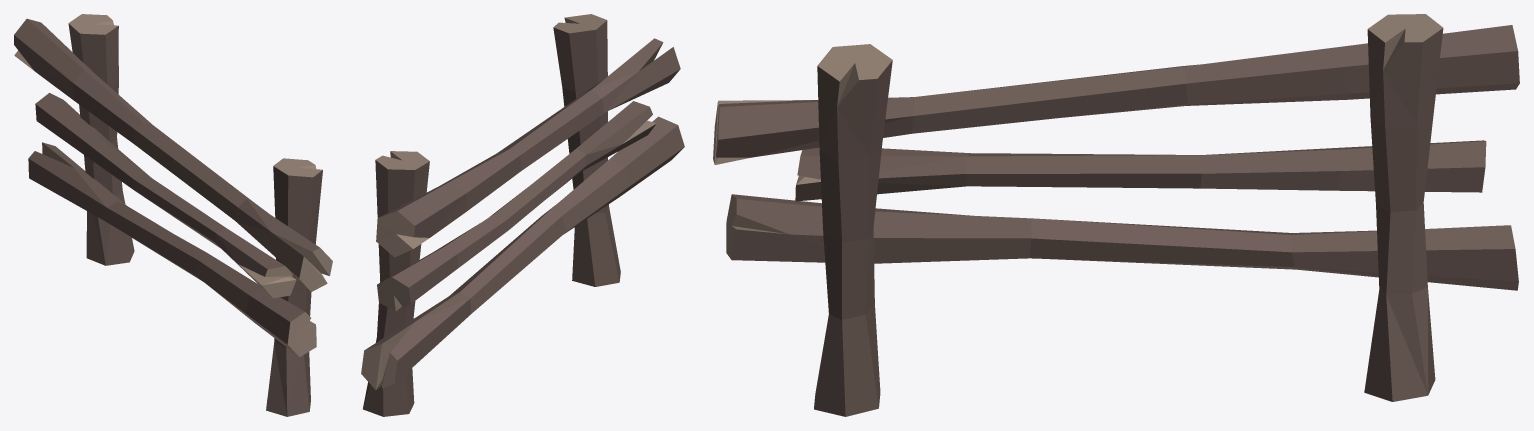
The model's file is fence_gate.glb.
3 views of the same model, side by side, from view 1: azimuth 30°, elevation 25°; view 2: azimuth 150°, elevation 25°; view 3: azimuth 270°, elevation 25° (orthographic). The views are drawn at different scales.
Visible parts, largest first — view 1: fence_gate; view 2: fence_gate; view 3: fence_gate.
Part boxes in pixels (x1,y1,x2,y2): fence_gate: (14,14,332,416); fence_gate: (361,14,684,416); fence_gate: (713,14,1519,416).
Bounding box in the file's own units: 2.51 × 6.95 × 13.75.
1 material, 1 textured.
